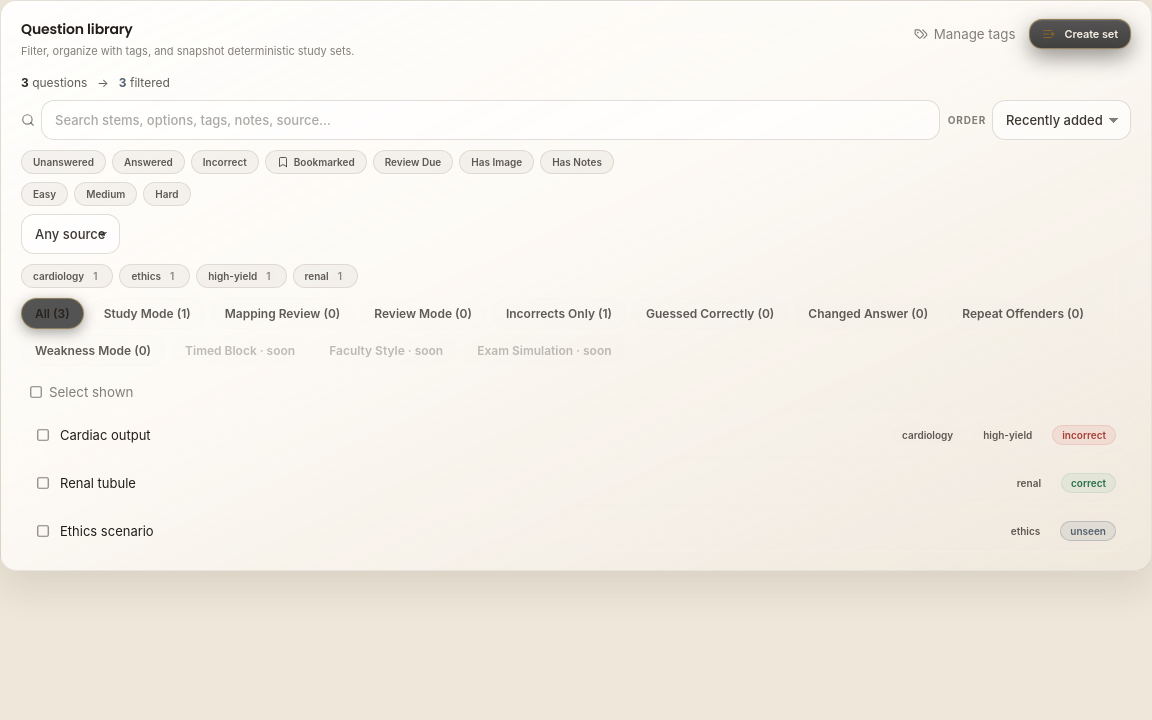
BankBrowser library › shows live total and narrows by a tag chip
This screenshot has width=1152, height=720.
Expected: the message shows "3", [21, 74, 29, 90]
Step 1. Click the button "renal 1" → click(325, 276), box [292, 264, 358, 288]
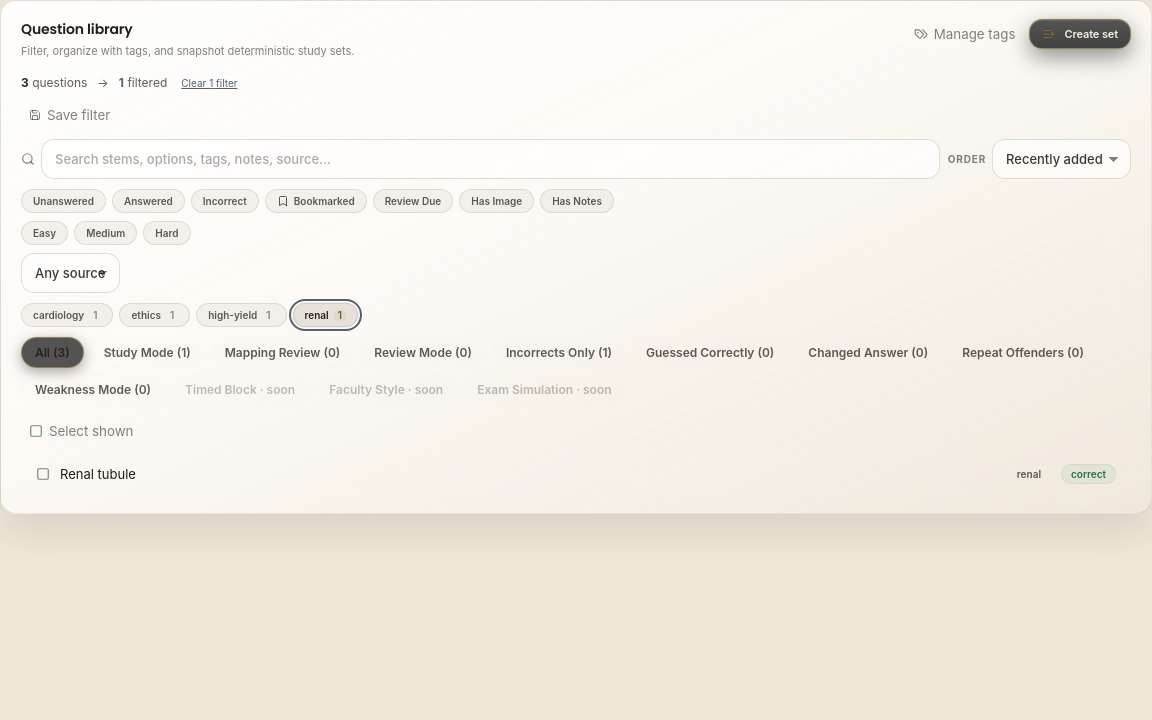
Expected: the button "Renal tubule" is shown, [60, 466, 997, 482]
Now the button "Cardiac output" is gone
